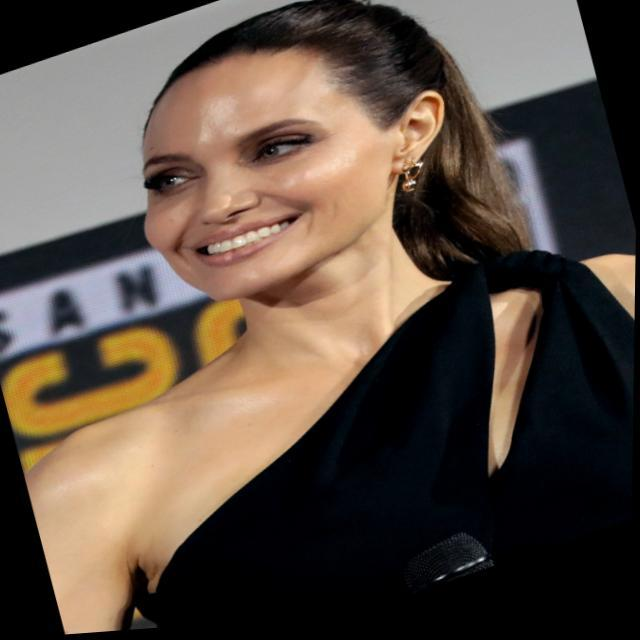Nonhelmet: (133, 0, 466, 312)
